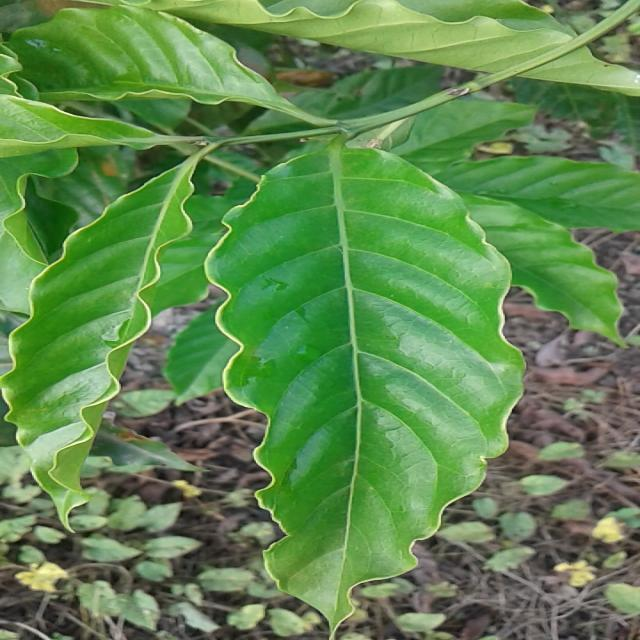Sanas: (149, 145, 526, 640)
